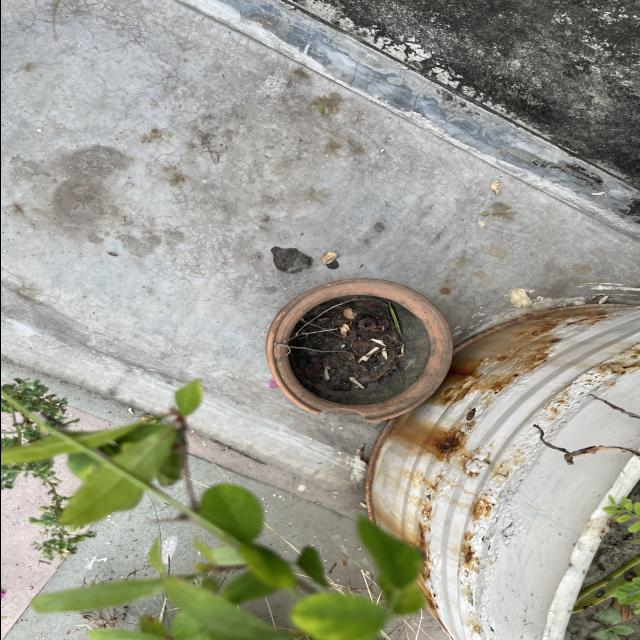Breeding Place: (368, 308, 640, 640), (246, 282, 454, 419)
